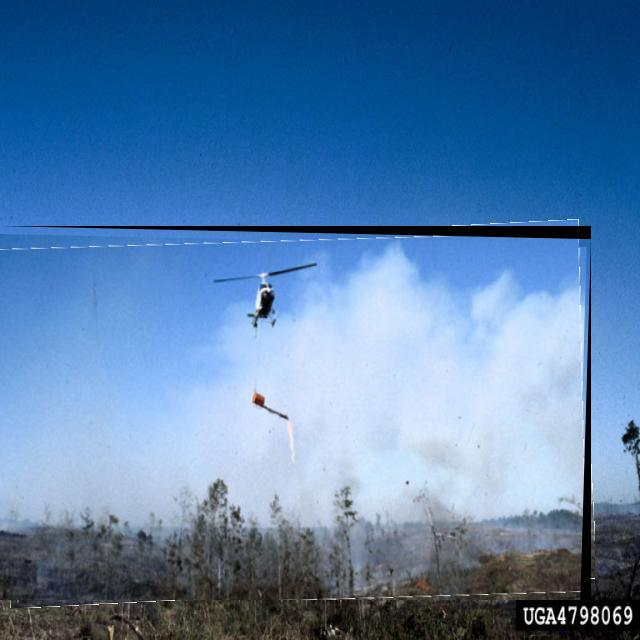smoke: (308, 249, 581, 518), (12, 383, 188, 528), (218, 331, 303, 390)
